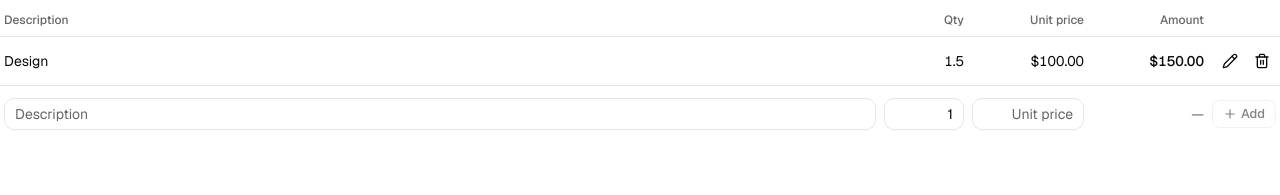
Test: InvoiceItemsEditor › shows the server's validation messages and keeps the input
In the field named "New item description": (440, 114) [4, 98, 876, 130], type "Bad"
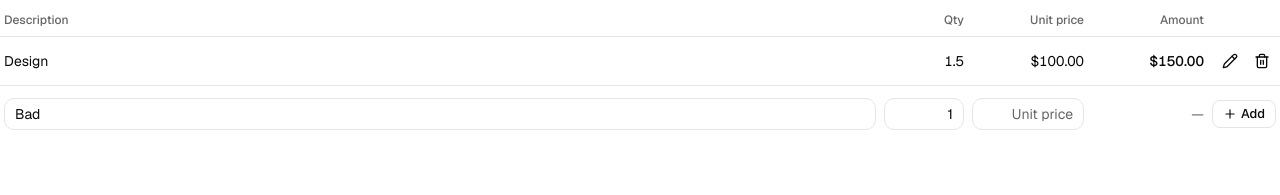
In the field named "New item unit price": (1028, 114) [972, 98, 1084, 130], type "1.001"
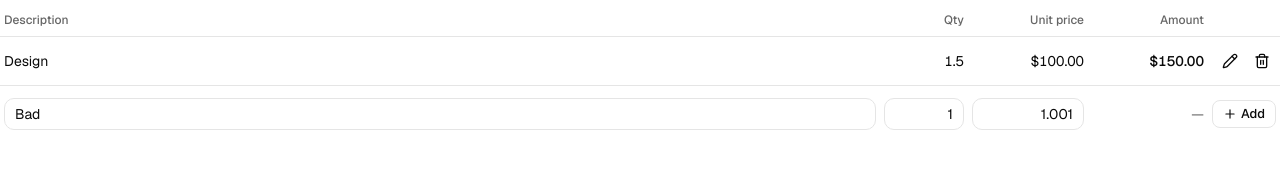
Expected: the text "—" is shown, [1191, 105, 1204, 123]
Click the button "Add": (1244, 114) [1212, 100, 1276, 128]
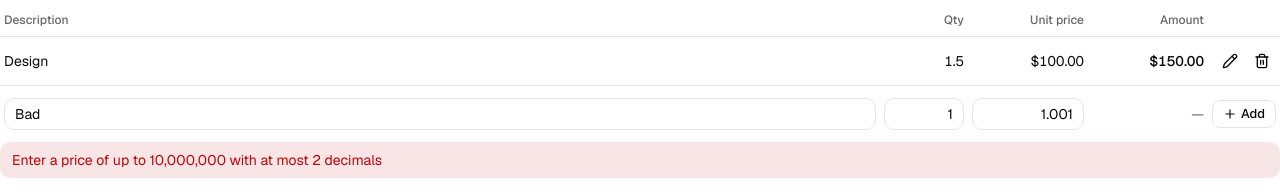
Expected: the message shows "at most 2 decimals", [12, 151, 382, 169]
